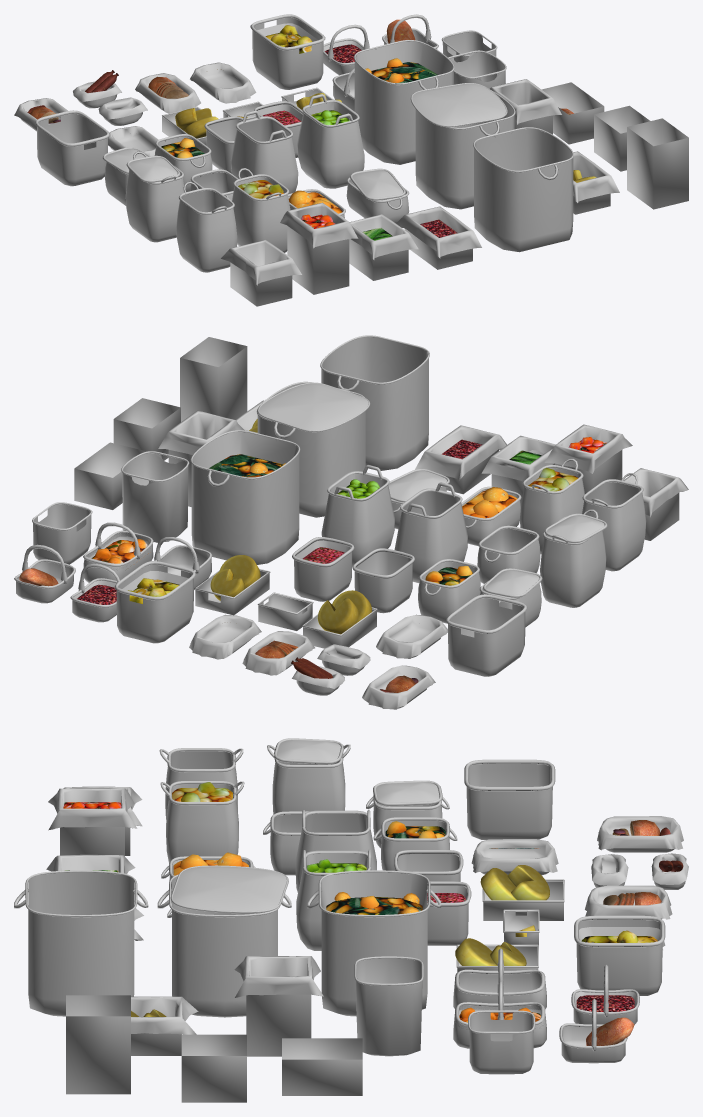
3 views of the same model, one above another, from view 1: azimuth 30°, elevation 25°; view 2: azimuth 150°, elevation 25°; view 3: azimuth 270°, elevation 25° (orthographic). The views are drawn at different scales.
Parts seen in each view (by area): view 1: baskets_low.063, baskets_low.023, baskets_low.062, baskets_low.019, baskets_low.057, baskets_low.013, baskets_low.005, baskets_low.066, baskets_low.054, baskets_low.060, baskets_low.016, baskets_low.051 (+31 smaller); view 2: baskets_low.023, baskets_low.063, baskets_low.062, baskets_low.066, baskets_low.005, baskets_low.010, baskets_low.013, baskets_low.057, baskets_low.060, baskets_low.053, baskets_low.054, rims02_low.005 (+31 smaller); view 3: baskets_low.063, baskets_low.023, baskets_low.062, baskets_low.066, baskets_low.052, baskets_low.005, baskets_low.057, baskets_low.010, baskets_low.016, baskets_low.019, rims02_low.005, baskets_low.059 (+29 smaller).
Boxes of the visible parts, <box> form: baskets_low.063: <box>473,127,573,252</box>; baskets_low.023: <box>354,40,454,164</box>; baskets_low.062: <box>415,90,515,209</box>; baskets_low.019: <box>280,202,358,294</box>; baskets_low.057: <box>627,118,688,209</box>; baskets_low.013: <box>297,94,364,188</box>; baskets_low.005: <box>250,14,325,89</box>; baskets_low.066: <box>35,110,109,186</box>; baskets_low.054: <box>176,181,237,272</box>; baskets_low.060: <box>230,110,298,194</box>; baskets_low.016: <box>232,168,290,252</box>; baskets_low.051: <box>221,239,301,306</box>; baskets_low.023: <box>190,430,300,564</box>; baskets_low.063: <box>320,335,429,470</box>; baskets_low.062: <box>256,381,365,517</box>; baskets_low.066: <box>446,594,527,676</box>; baskets_low.005: <box>114,561,195,643</box>; baskets_low.010: <box>121,451,189,542</box>; baskets_low.013: <box>321,465,394,567</box>; baskets_low.057: <box>180,337,247,421</box>; baskets_low.060: <box>394,482,467,582</box>; baskets_low.053: <box>540,509,606,607</box>; baskets_low.054: <box>582,473,646,571</box>; rims02_low.005: <box>257,382,370,432</box>; baskets_low.063: <box>14,870,148,1016</box>; baskets_low.023: <box>307,870,441,1016</box>; baskets_low.062: <box>157,874,291,1017</box>; baskets_low.066: <box>464,759,555,839</box>; baskets_low.052: <box>234,956,323,1056</box>; baskets_low.005: <box>574,915,665,995</box>; baskets_low.057: <box>66,995,130,1094</box>; baskets_low.010: <box>354,956,423,1056</box>; baskets_low.016: <box>160,781,244,863</box>; baskets_low.019: <box>48,788,137,855</box>; rims02_low.005: <box>170,865,288,913</box>; baskets_low.059: <box>282,1038,362,1095</box>.
Bounding box in the file's own units: 541 × 102 × 542.
